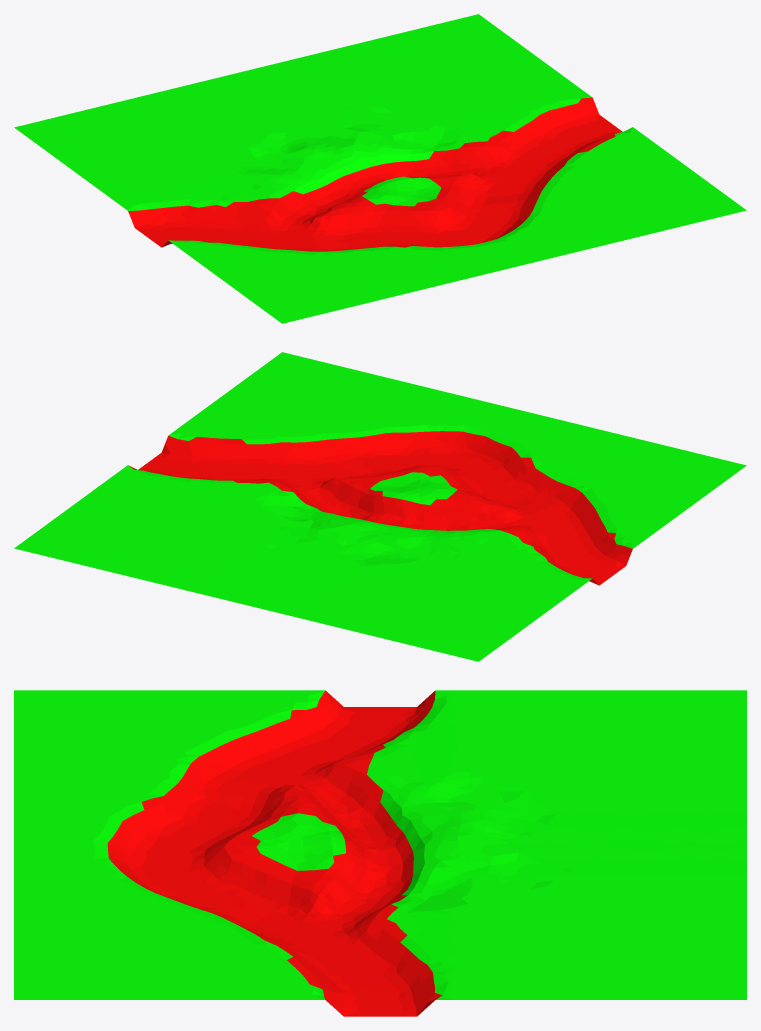
File: RiverBifurcation05.fbx
3 renders of one model, top to bottom at view 1: azimuth 30°, elevation 25°; view 2: azimuth 150°, elevation 25°; view 3: azimuth 270°, elevation 25°, orthographic. The views are drawn at different scales.
Visible parts, largest first — view 1: RiverBifurcation05; view 2: RiverBifurcation05; view 3: RiverBifurcation05.
Boxes of the visible parts, left/top/right/bottom form: RiverBifurcation05: left=14, top=14, right=746, bottom=323; RiverBifurcation05: left=14, top=352, right=746, bottom=661; RiverBifurcation05: left=14, top=690, right=746, bottom=1016.
Size of the model in its own units: 5009 by 223 by 5009.
